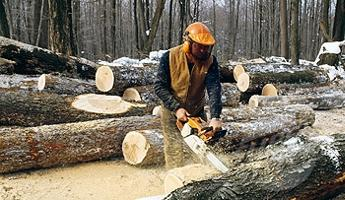person: (156, 23, 223, 171)
